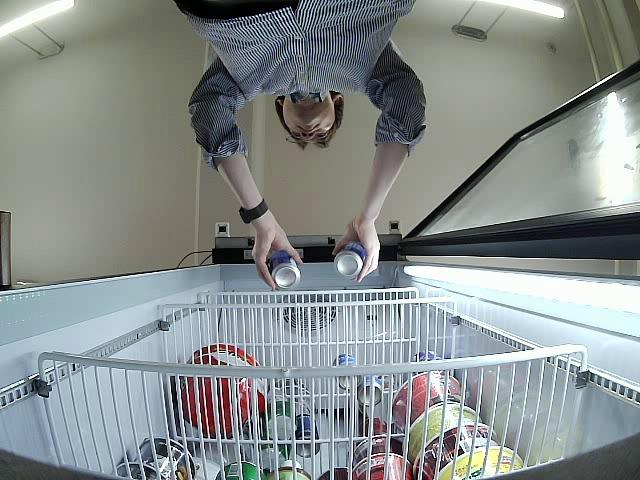00_hand: (249, 229, 303, 292), (328, 222, 382, 282)
13_pocariSweat: (267, 250, 299, 292), (333, 241, 365, 279)
